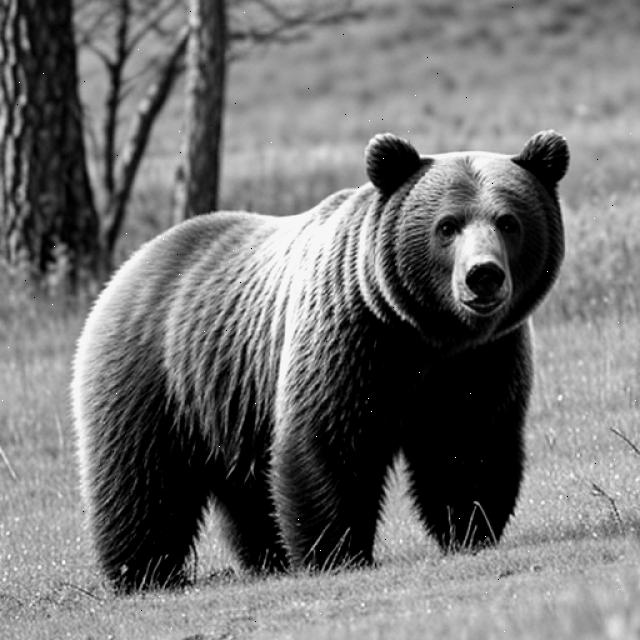bear: (53, 112, 595, 640)
